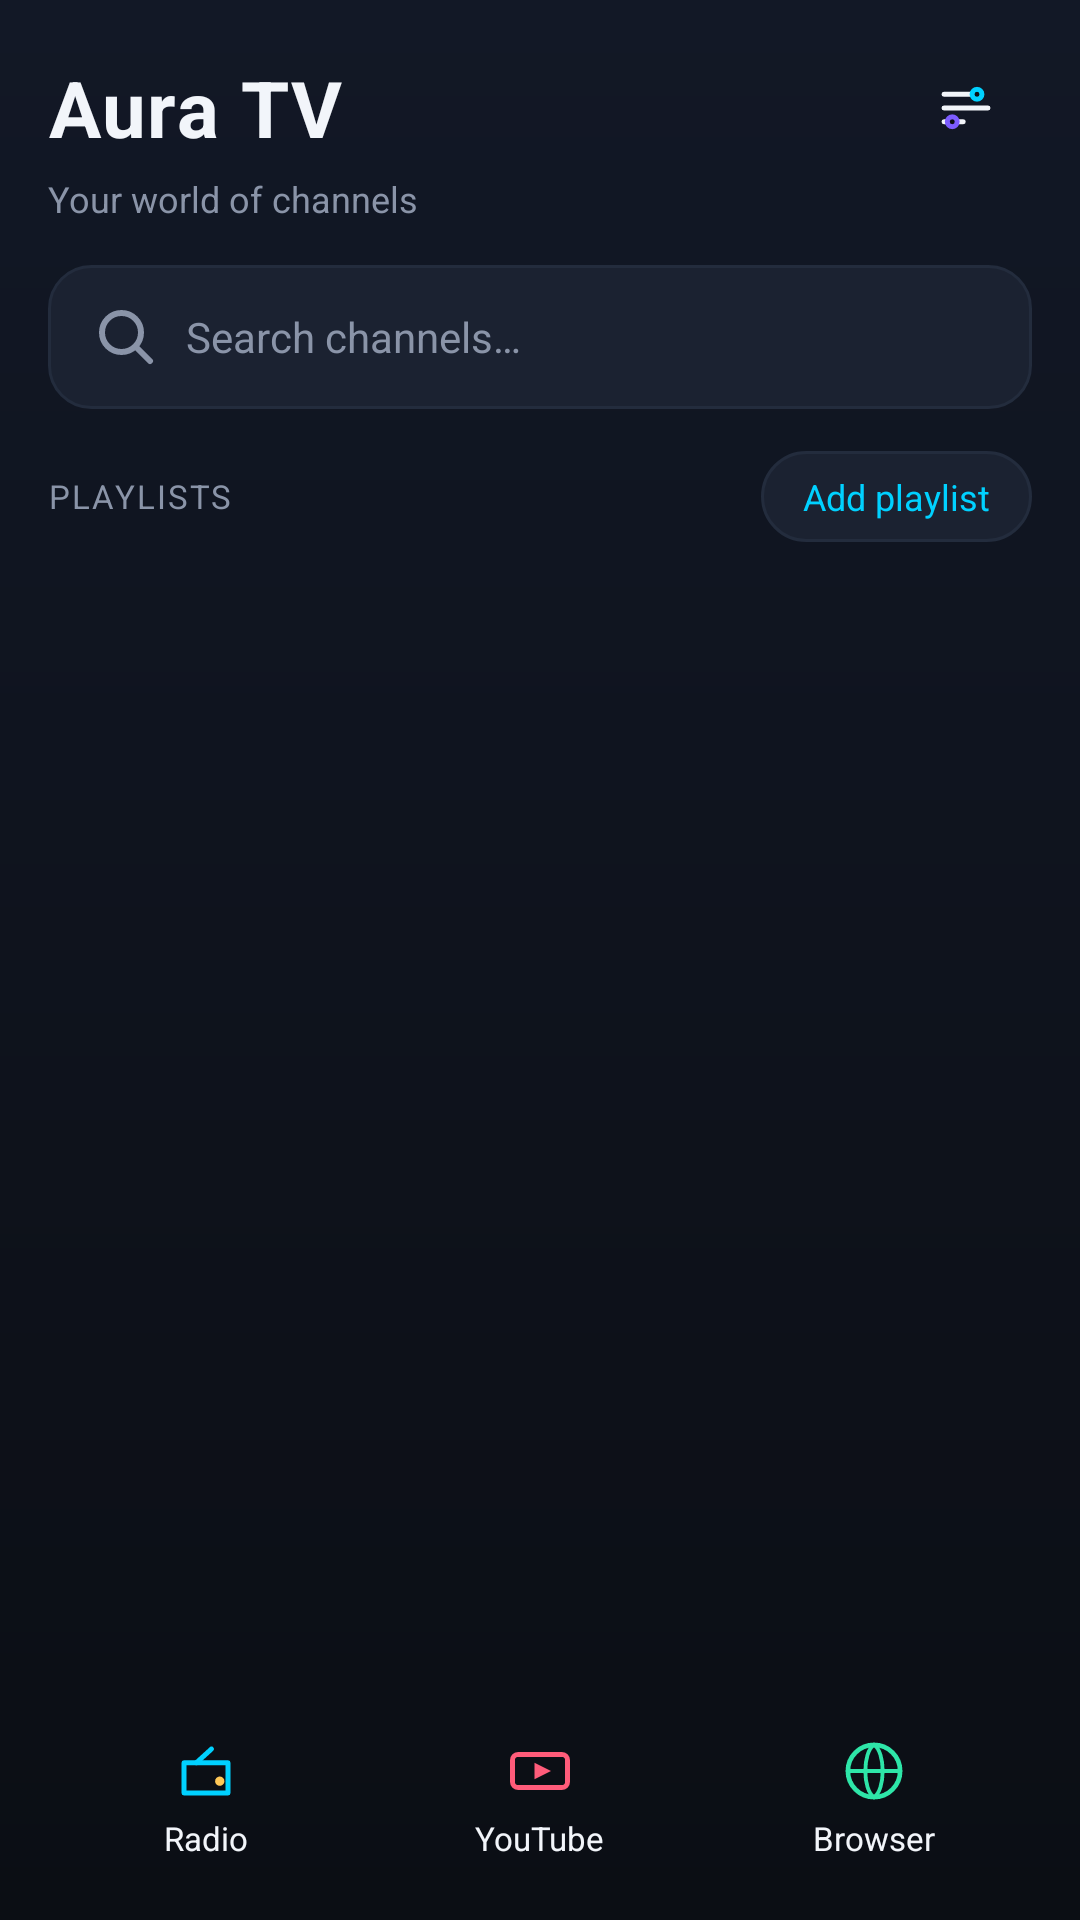

Locate icon controls on the screen. Image size 1080 x 1920, boxes as [x1,y1,x2,y2].
Settings: [941,87,991,130]
